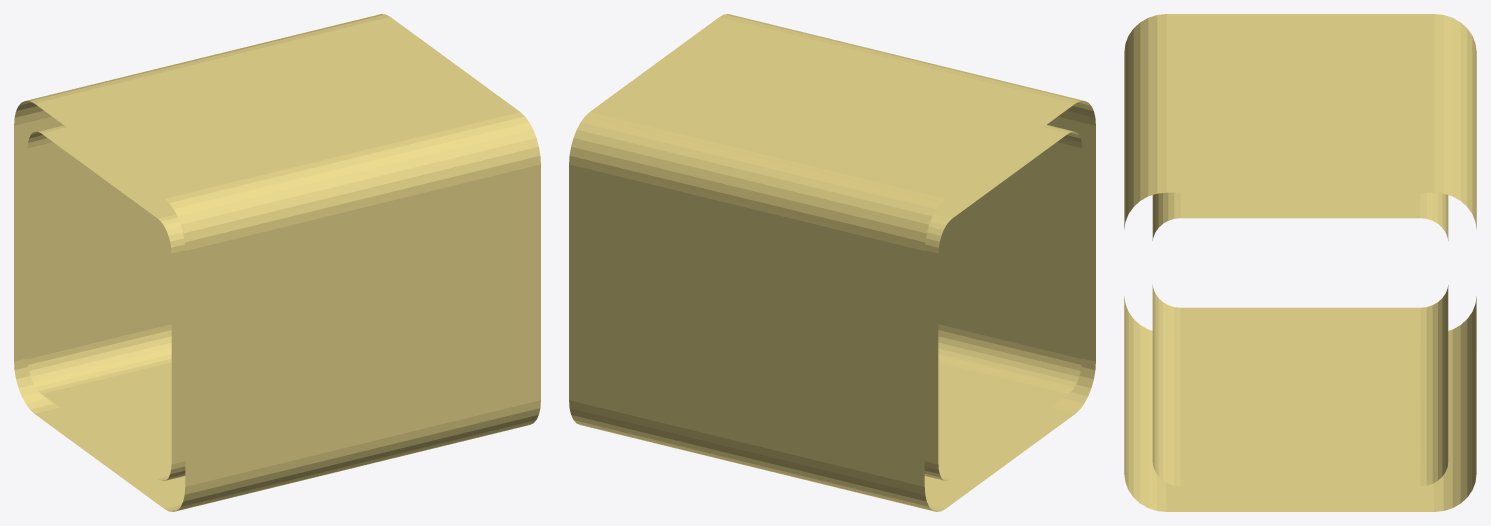
Rendered from RailRight_09.obj.
The picture shows the model from 3 angles, left to right: view 1: azimuth 30°, elevation 25°; view 2: azimuth 150°, elevation 25°; view 3: azimuth 270°, elevation 25°; orthographic projection. The views are drawn at different scales.
Parts seen in each view (by area): view 1: RailRight_09_15; view 2: RailRight_09_15; view 3: RailRight_09_15.
Part boxes in pixels (x1,y1,x2,y2): RailRight_09_15: (14, 14, 540, 511); RailRight_09_15: (569, 14, 1095, 511); RailRight_09_15: (1124, 14, 1476, 511).
Size of the model in its own units: 0.03 by 0.025 by 0.025.
